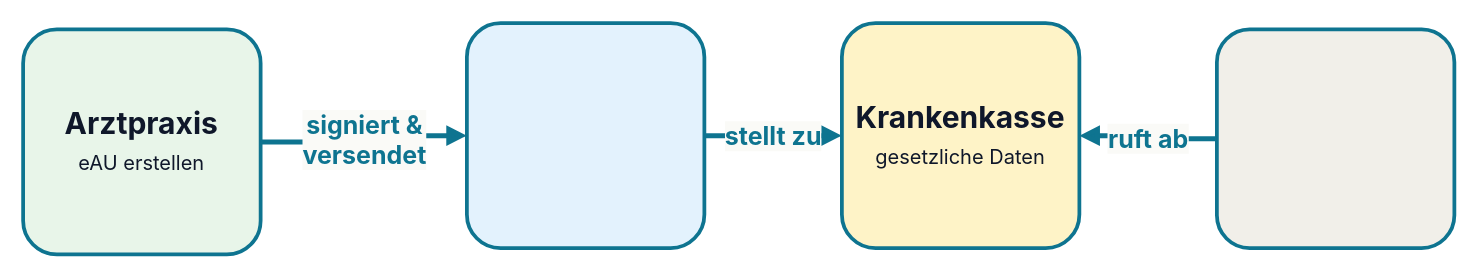
This 1478x278 diagram has some shape labels left out. Each missing label, with the centre of its shape:
"Arbeitgeber" belongs at [1335,138].
"TI sicher vermitteln" belongs at [585,135].
